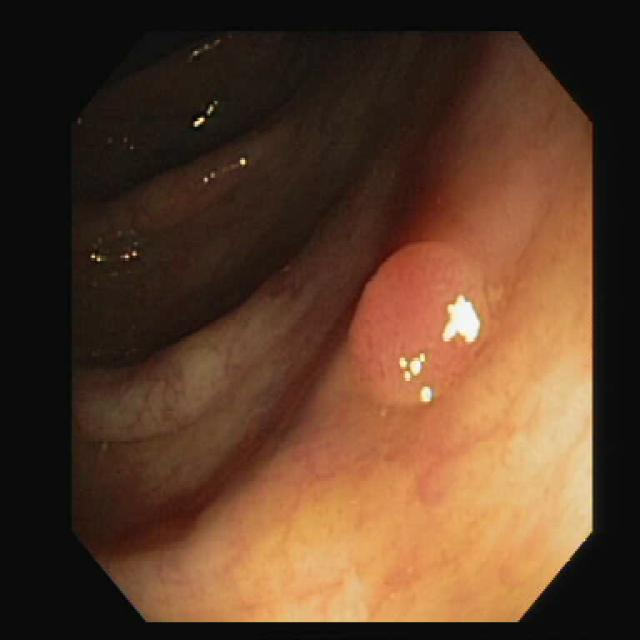tumor: (350, 244, 467, 398)
